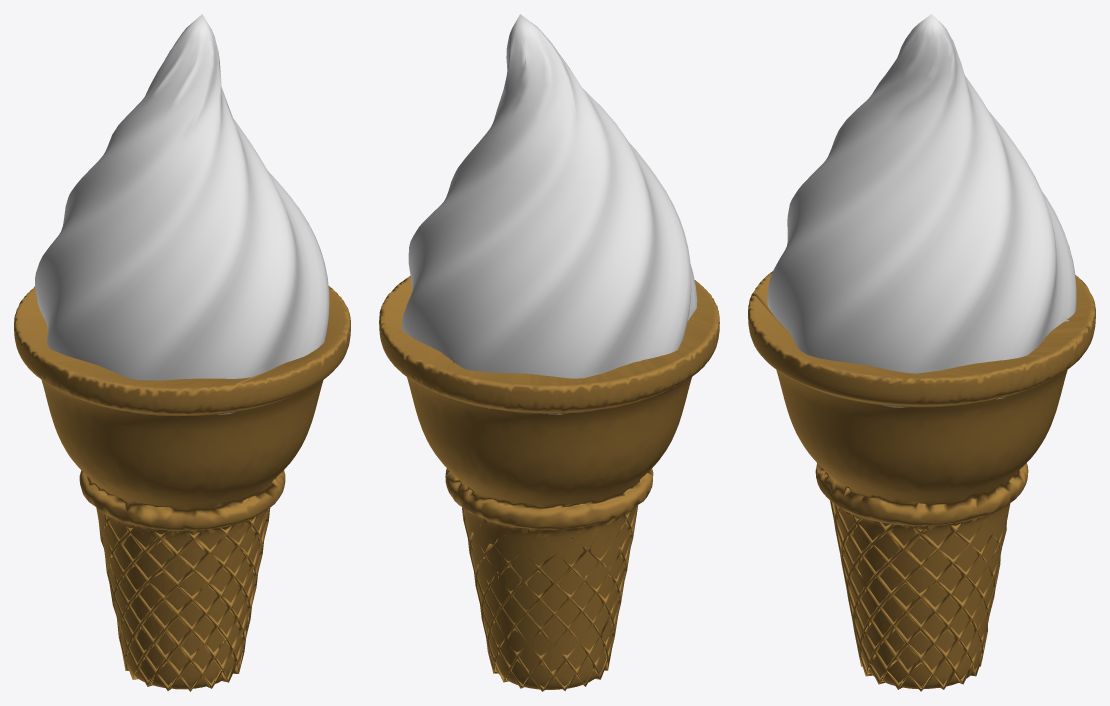
File: softCream.fbx
3 renders of one model, left to right at view 1: azimuth 30°, elevation 25°; view 2: azimuth 150°, elevation 25°; view 3: azimuth 270°, elevation 25°, orthographic. The views are drawn at different scales.
Parts seen in each view (by area): view 1: cream, cone; view 2: cream, cone; view 3: cream, cone.
Part boxes in pixels (bbox=[...]): cream: bbox=[35, 14, 329, 414]; cone: bbox=[14, 286, 350, 691]; cream: bbox=[401, 14, 697, 414]; cone: bbox=[379, 276, 719, 691]; cream: bbox=[767, 14, 1076, 407]; cone: bbox=[748, 271, 1095, 691].
Size of the model in its own units: 16791 by 35561 by 16790.
